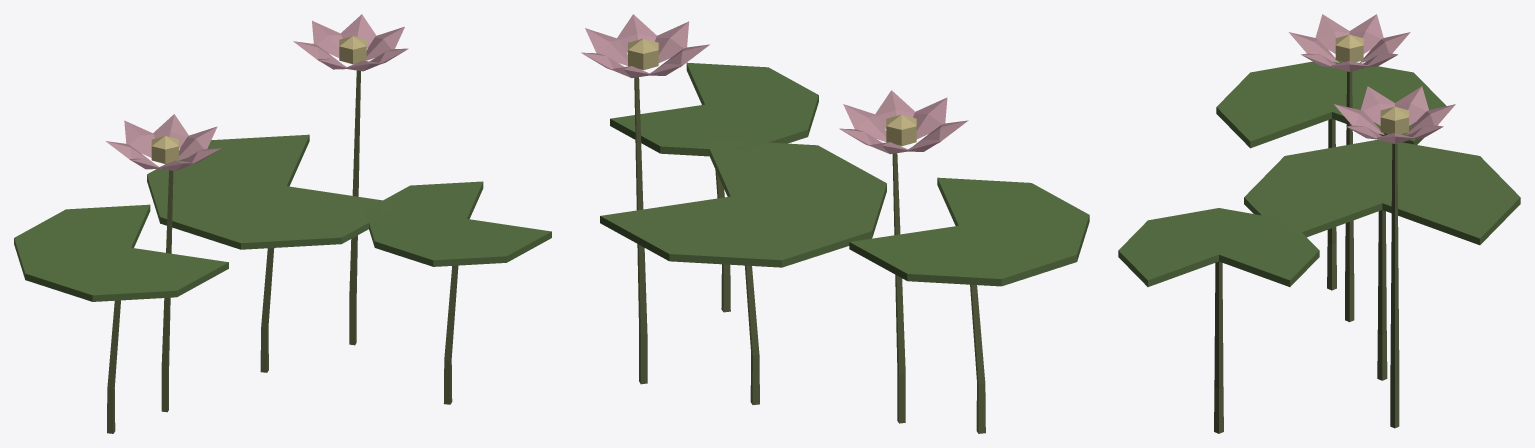
The model's file is Plant_Feature_Lakeside_LotusPatch_001_LOD1.glb.
3 views of the same model, side by side, from view 1: azimuth 30°, elevation 25°; view 2: azimuth 150°, elevation 25°; view 3: azimuth 270°, elevation 25° (orthographic). The views are drawn at different scales.
Visible parts, largest first — view 1: Plant_Feature_Lakeside_LotusPatch_001_LOD1; view 2: Plant_Feature_Lakeside_LotusPatch_001_LOD1; view 3: Plant_Feature_Lakeside_LotusPatch_001_LOD1.
Boxes of the visible parts, bbox=[...] form: Plant_Feature_Lakeside_LotusPatch_001_LOD1: bbox=[14, 14, 551, 433]; Plant_Feature_Lakeside_LotusPatch_001_LOD1: bbox=[581, 14, 1089, 433]; Plant_Feature_Lakeside_LotusPatch_001_LOD1: bbox=[1118, 14, 1520, 433].
Bounding box in the file's own units: 2.09 × 1.4 × 1.6.
